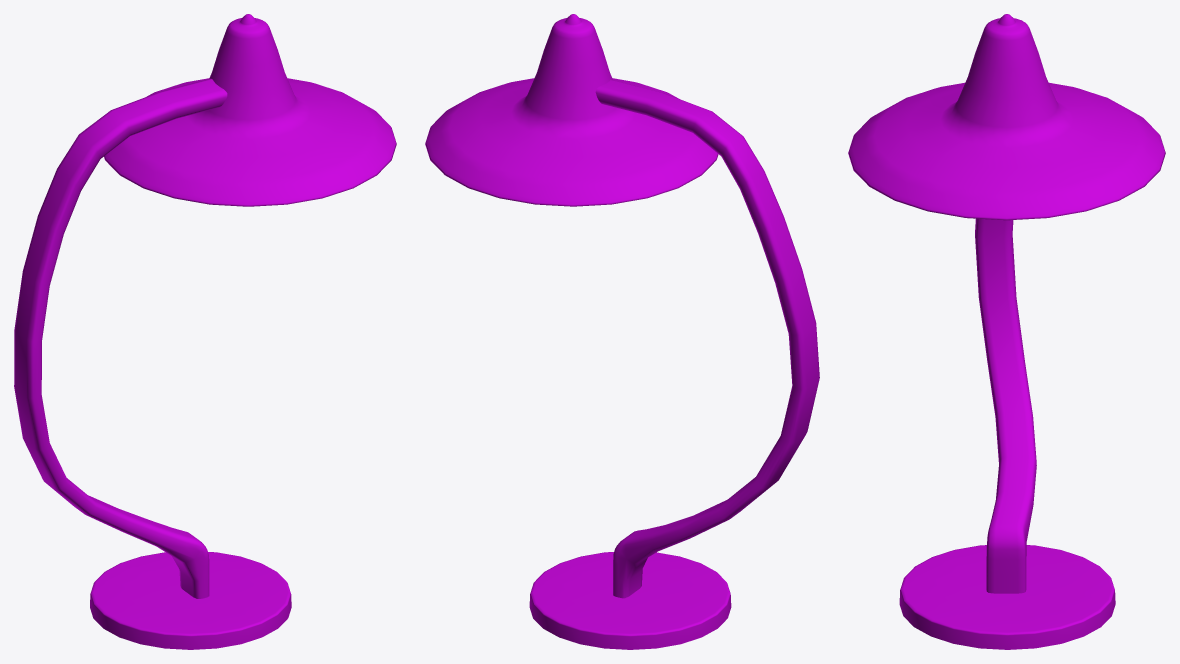
File: SM_Lamp.fbx
The picture shows the model from 3 angles, left to right: view 1: azimuth 30°, elevation 25°; view 2: azimuth 150°, elevation 25°; view 3: azimuth 270°, elevation 25°; orthographic projection. The views are drawn at different scales.
Parts seen in each view (by area): view 1: SHELF.006; view 2: SHELF.006; view 3: SHELF.006.
Boxes of the visible parts, box(x1,y1,x2,y2) form: SHELF.006: box(14, 14, 396, 649); SHELF.006: box(425, 14, 819, 649); SHELF.006: box(848, 14, 1165, 649).
Bounding box in the file's own units: 45.02 × 31.95 × 68.77.
